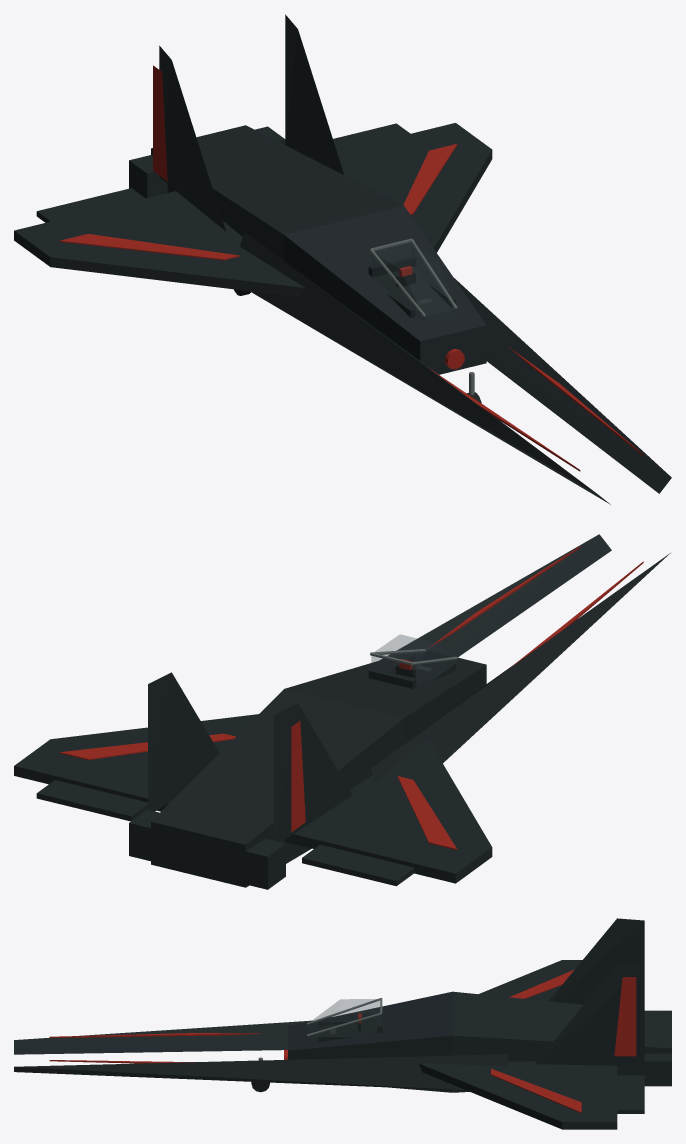
3 renders of one model, top to bottom at view 1: azimuth 30°, elevation 25°; view 2: azimuth 150°, elevation 25°; view 3: azimuth 270°, elevation 25°, orthographic. The views are drawn at different scales.
Parts seen in each view (by area): view 1: mothership-fighter-painted, breakaway-fighter-fin--1-painted, breakaway-fighter-fin-1-painted, mothership-canopy-glazing, flap-left-painted, flap-right-painted, mothership-canopy-painted; view 2: mothership-fighter-painted, breakaway-fighter-fin--1-painted, breakaway-fighter-fin-1-painted, mothership-canopy-glazing, flap-left-painted, flap-right-painted; view 3: mothership-fighter-painted, breakaway-fighter-fin-1-painted, breakaway-fighter-fin--1-painted, mothership-canopy-glazing, flap-right-painted, mothership-canopy-painted.
Boxes of the visible parts, x1=… form: mothership-fighter-painted: x1=14, y1=123, x2=671, y2=504; breakaway-fighter-fin--1-painted: x1=153, y1=45, x2=226, y2=231; breakaway-fighter-fin-1-painted: x1=285, y1=14, x2=344, y2=174; mothership-canopy-glazing: x1=371, y1=242, x2=456, y2=323; flap-left-painted: x1=36, y1=188, x2=145, y2=222; flap-right-painted: x1=333, y1=123, x2=410, y2=151; mothership-canopy-painted: x1=370, y1=238, x2=457, y2=317; mothership-fighter-painted: x1=14, y1=534, x2=670, y2=889; breakaway-fighter-fin--1-painted: x1=274, y1=703, x2=352, y2=842; breakaway-fighter-fin-1-painted: x1=148, y1=672, x2=219, y2=811; mothership-canopy-glazing: x1=371, y1=634, x2=456, y2=684; flap-left-painted: x1=302, y1=844, x2=414, y2=886; flap-right-painted: x1=36, y1=780, x2=147, y2=821; mothership-fighter-painted: x1=14, y1=960, x2=671, y2=1129; breakaway-fighter-fin-1-painted: x1=535, y1=964, x2=644, y2=1066; breakaway-fighter-fin--1-painted: x1=549, y1=918, x2=644, y2=1004; mothership-canopy-glazing: x1=307, y1=999, x2=380, y2=1040; flap-right-painted: x1=617, y1=1075, x2=644, y2=1113; mothership-canopy-painted: x1=307, y1=998, x2=382, y2=1036.
Size of the model in its own units: 73.68 by 31.58 by 126.
